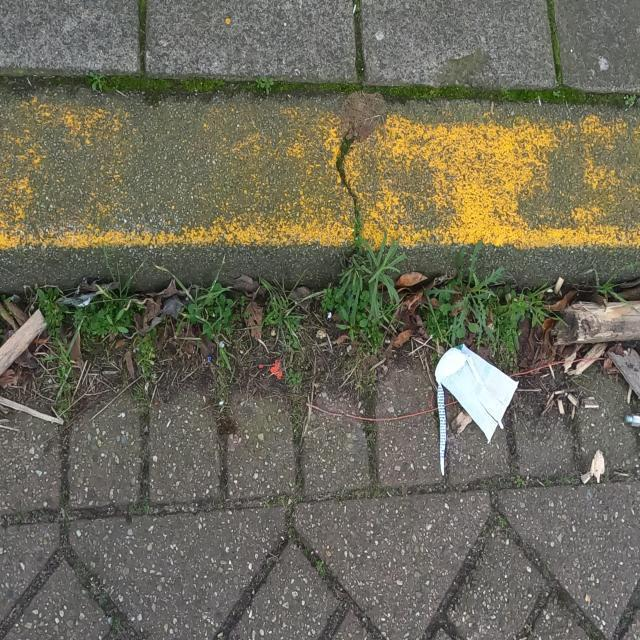Cup: (436, 343, 520, 446)
